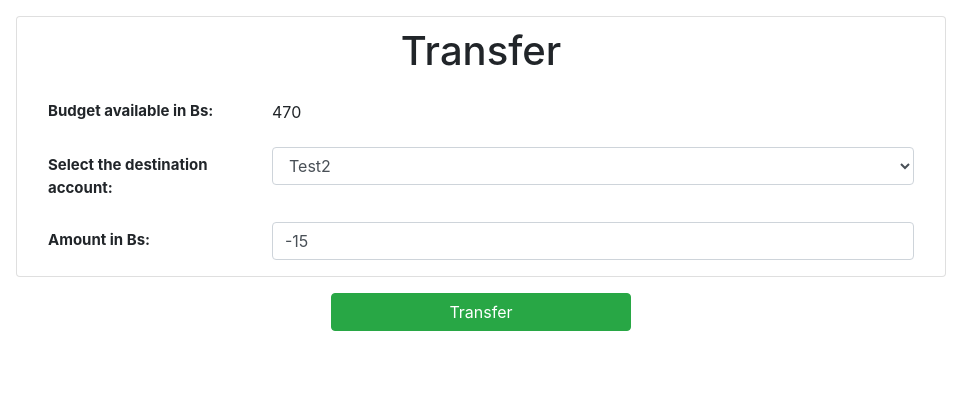
Test: MoneyTransfer.vue › events › test to check the negative entries of a input
What coordinates should you click on to do the following:
click the button with id "btn-transfer"
I would click on:
 (481, 312)
Its box is [331, 293, 631, 331].
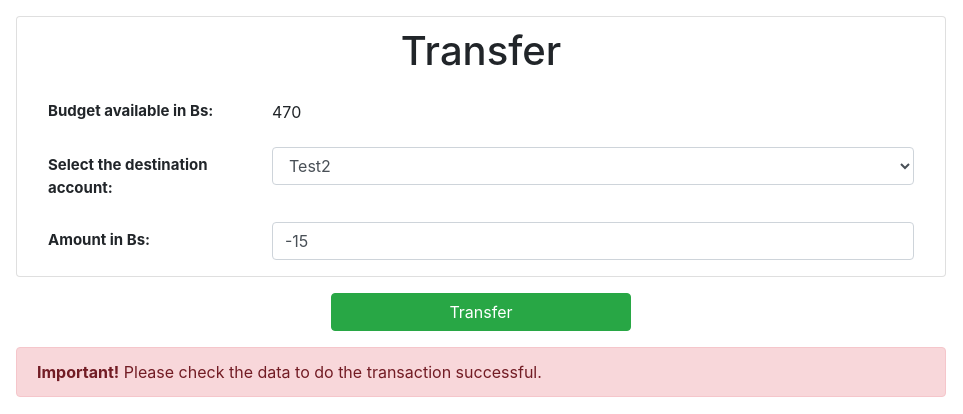
expect the message "Important! Please check the data to do the transaction successful." is shown: met, box [16, 347, 946, 397]
